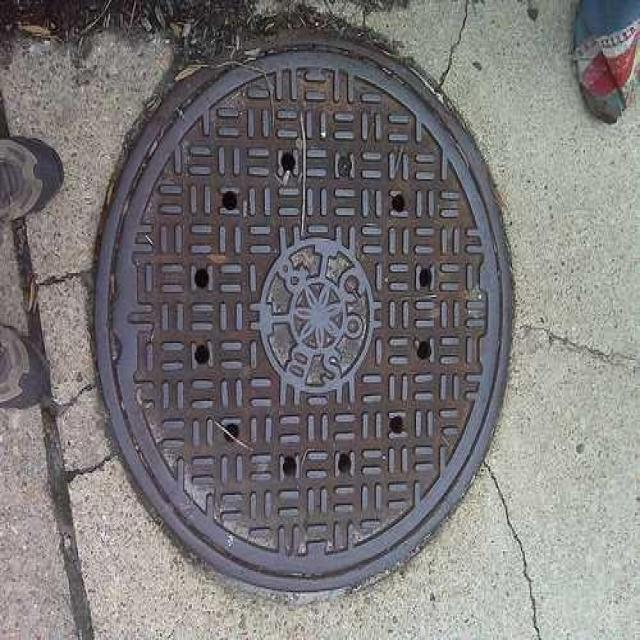manhole: (95, 38, 511, 591)
